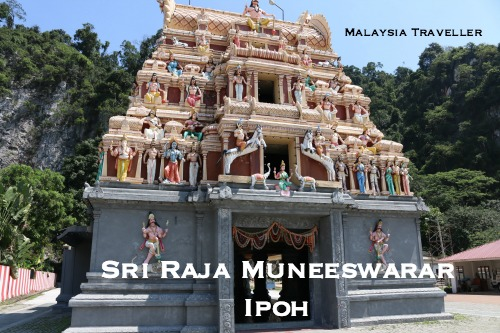Hindu Temple: (64, 1, 448, 328)
